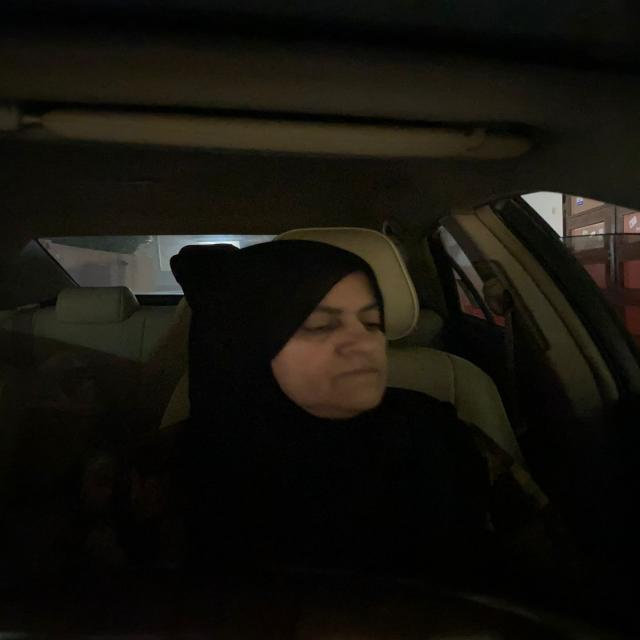drowsy: (182, 236, 404, 435)
